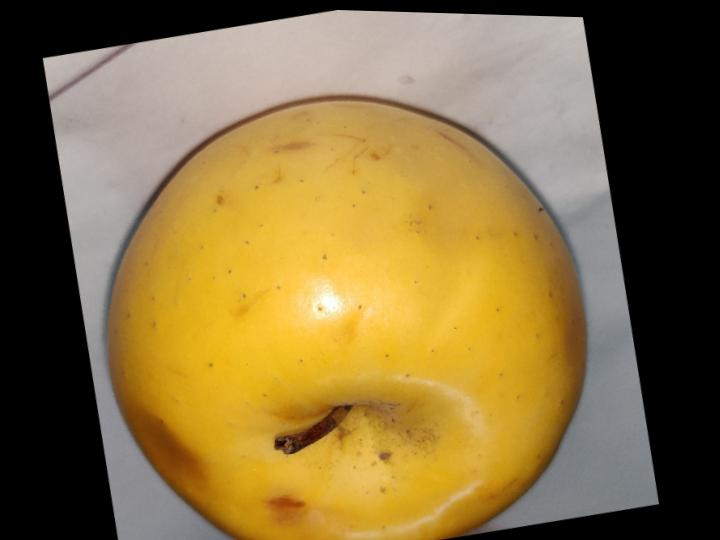apple: (107, 100, 583, 540)
bruise_discoloration: (121, 393, 204, 495)
